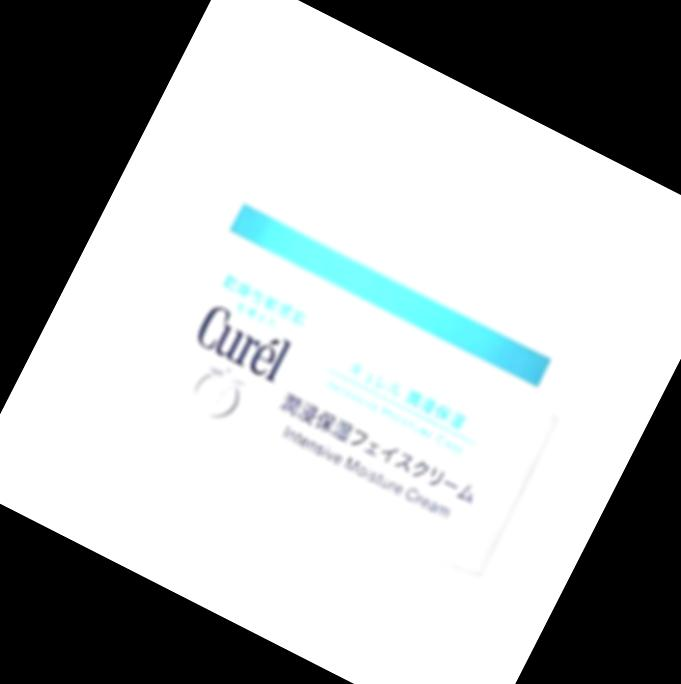cosmetic: (100, 111, 621, 581)
